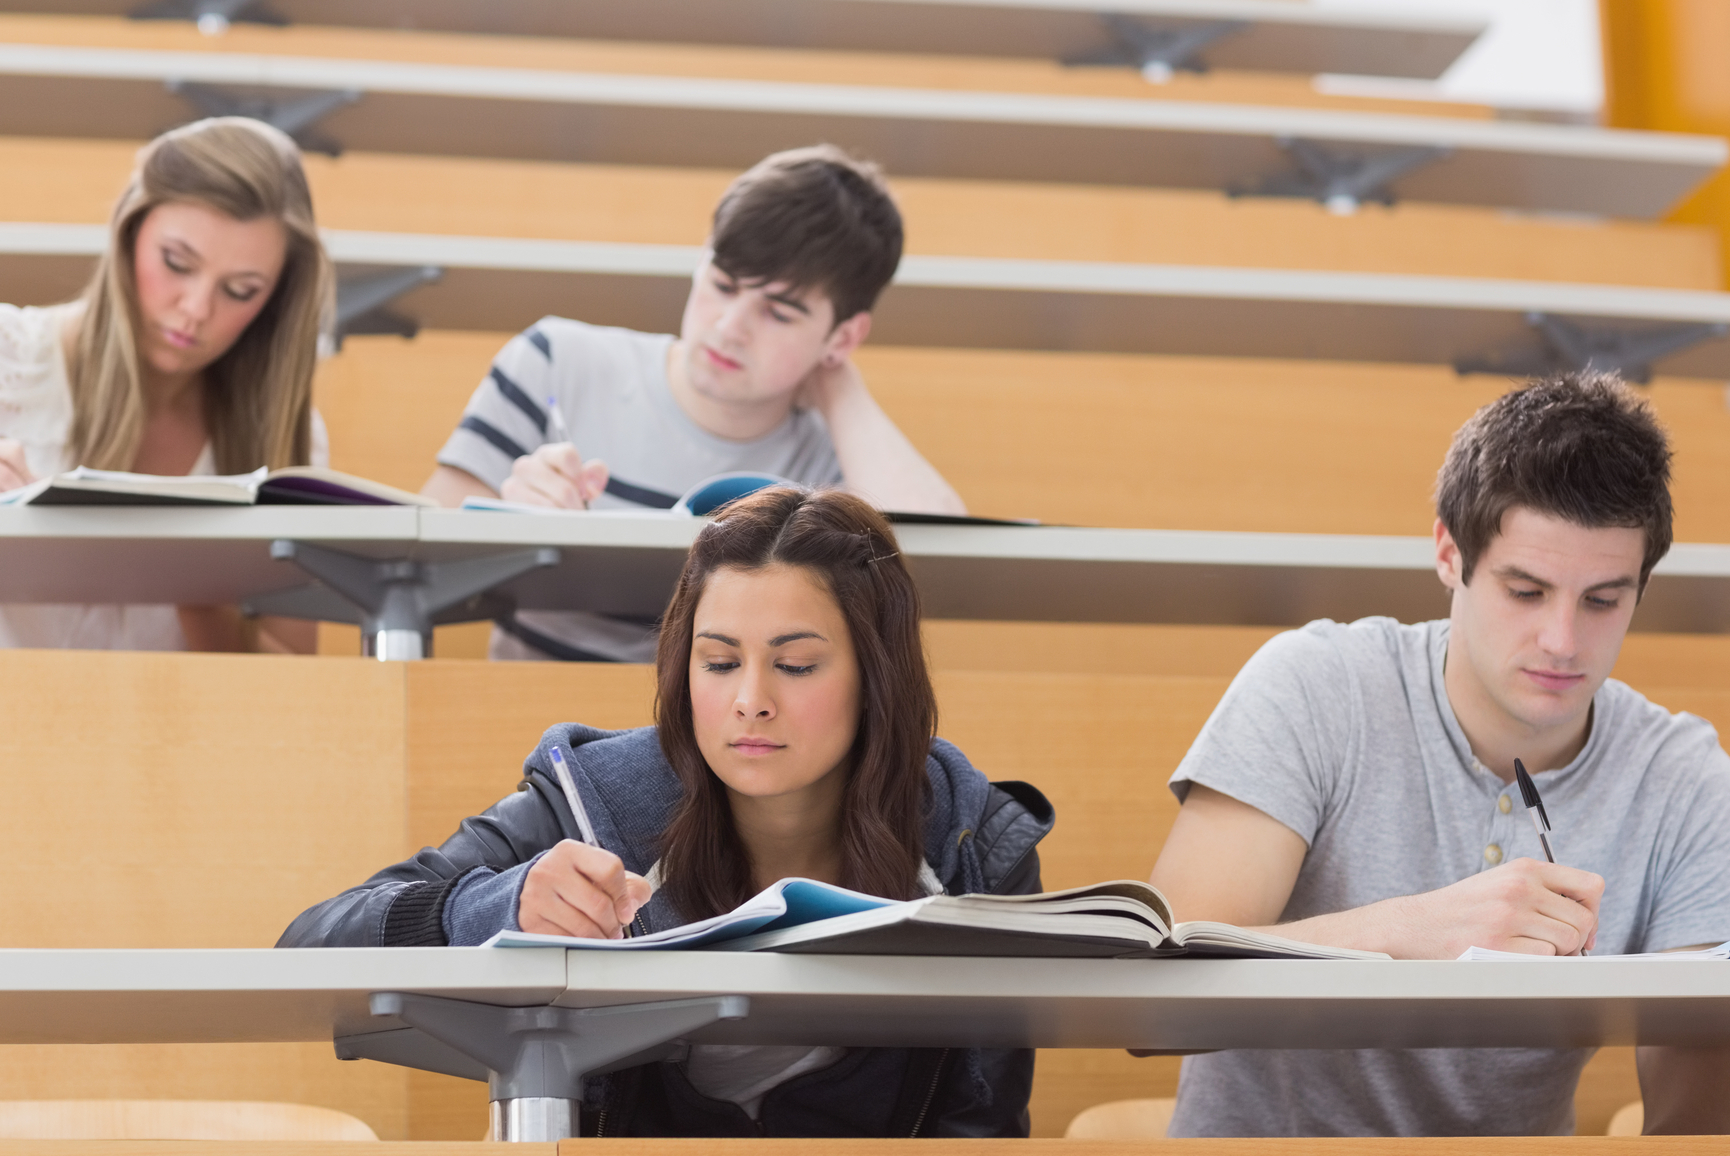students: (278, 484, 1054, 1138), (1150, 373, 1730, 1141), (414, 143, 971, 662), (1, 113, 331, 654)
